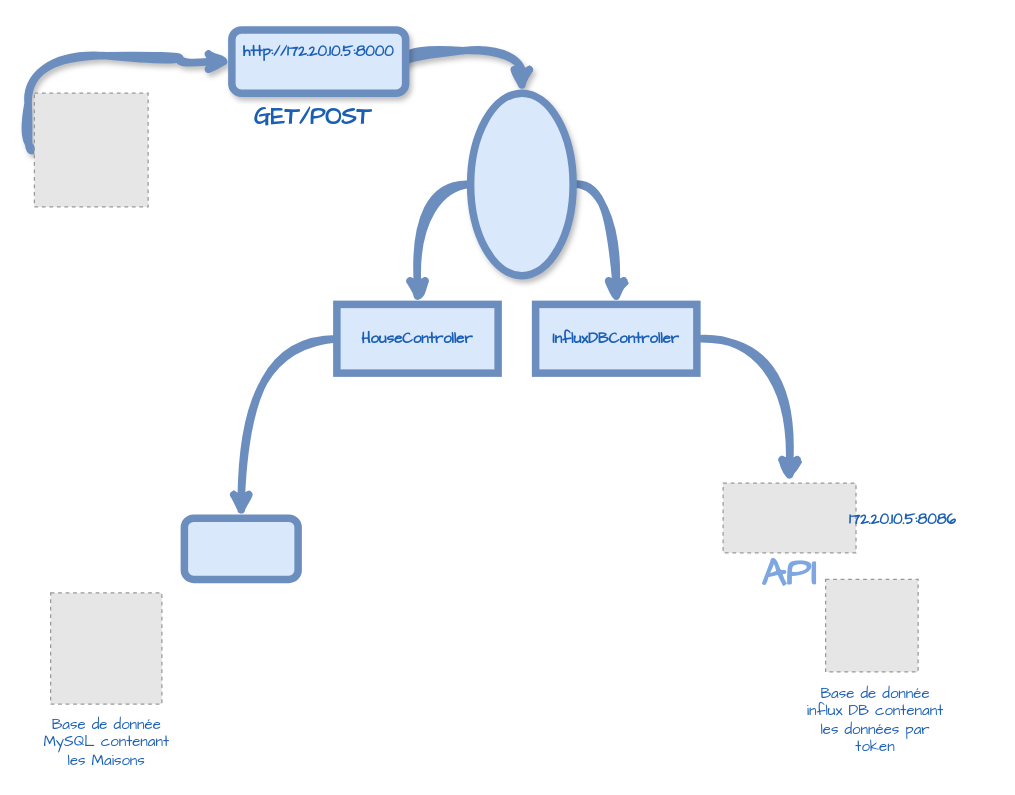
Image size: 1015x795. Some labels were removed from this diagram. Grey dashed boxes stand in for pictures. The centre of each missing label's shape, as x and y in pixels:
"Controller" goes at point (522, 186).
"Model: House" goes at point (240, 548).
